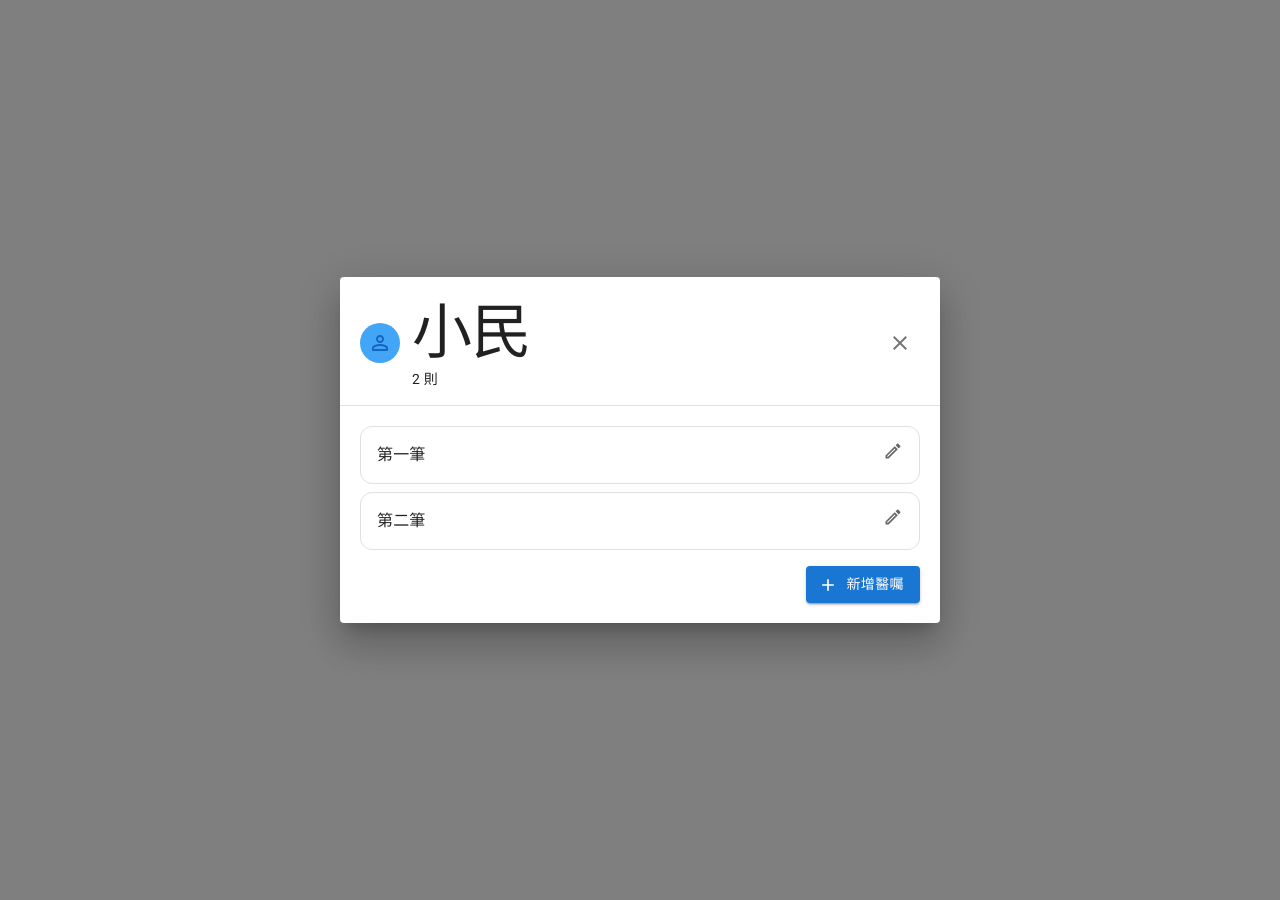
it: OrderDialog 編輯醫囑 › 點既有醫囑可編輯，儲存後打 PUT 且位置不變
Click the button "第一筆" at (401, 455), box [360, 426, 920, 484]
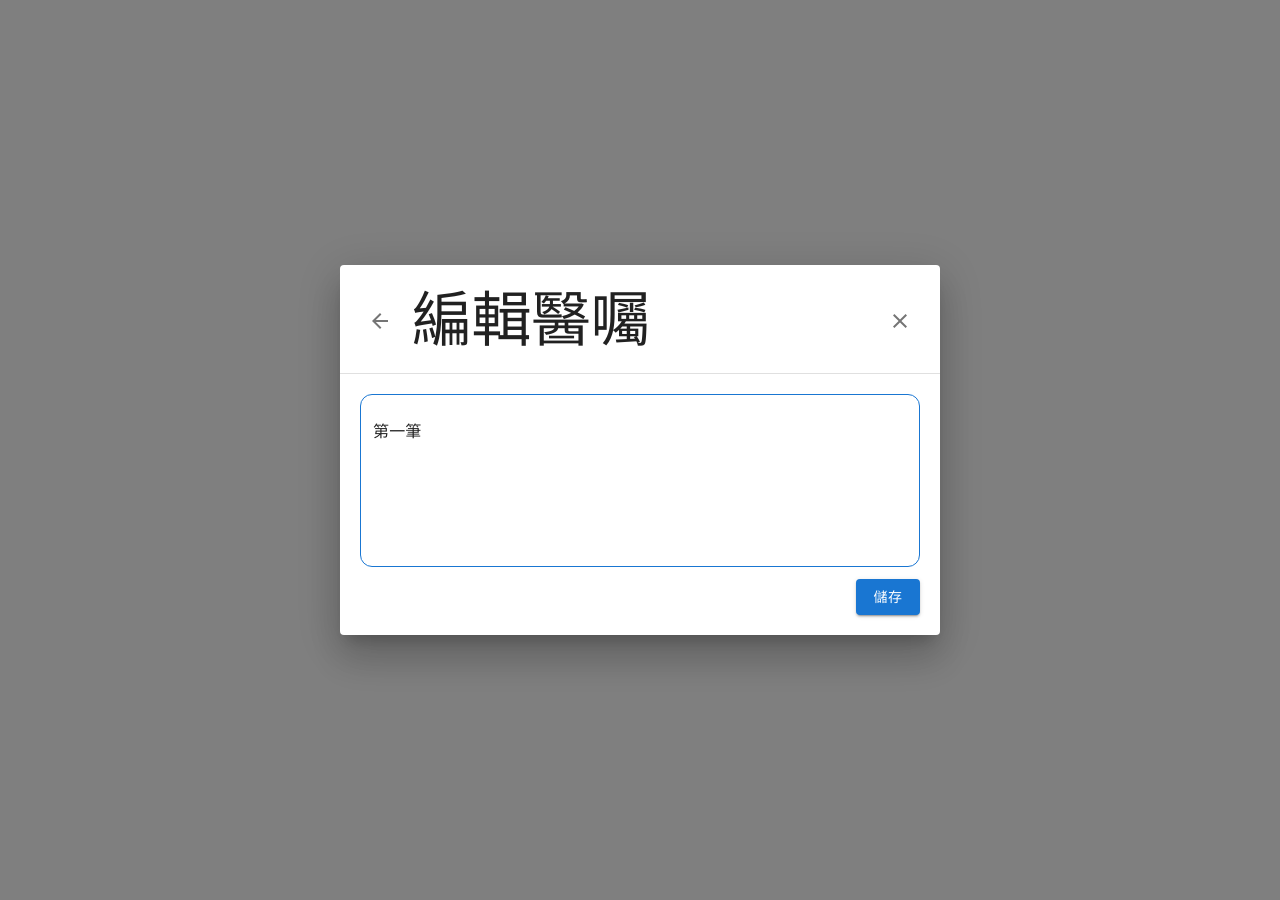
Expected: the text box named "醫囑內容" holds "第一筆"
Replace the text in the text box named "醫囑內容" with "改過的第一筆" at (640, 489), box [373, 420, 907, 558]
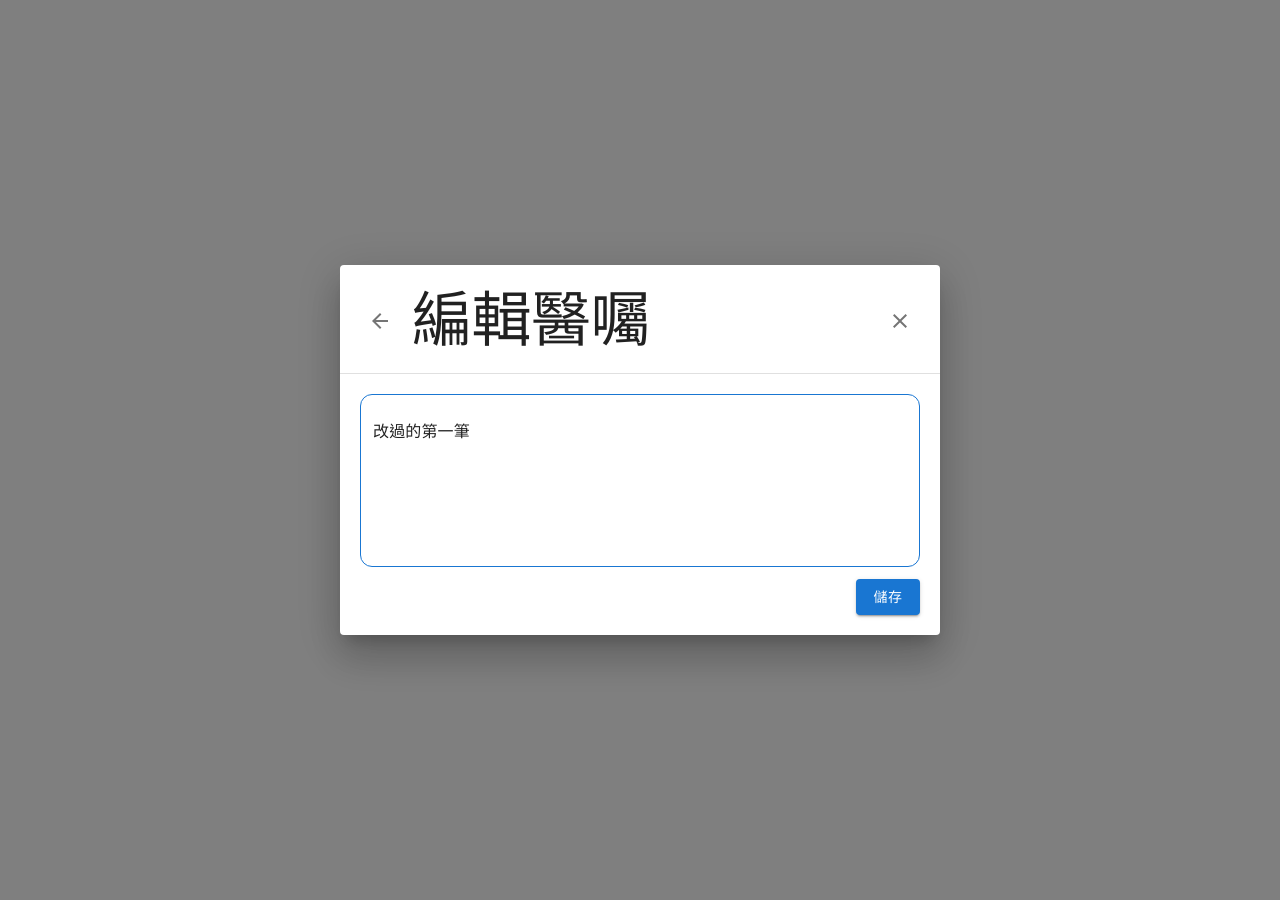
Click the button "儲存" at (888, 597), box [856, 579, 920, 615]
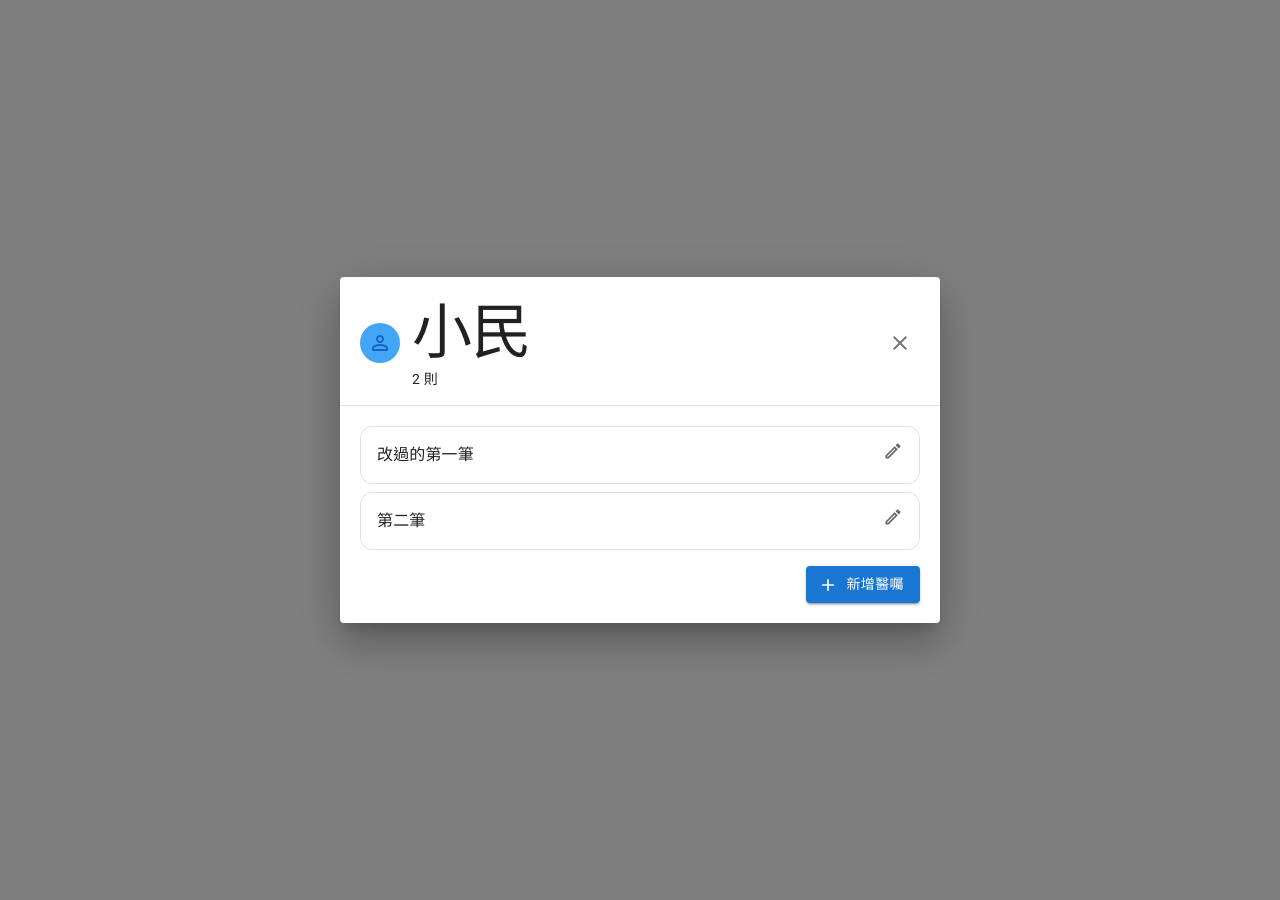
Expected: the buttons read "改過的第一筆", "第二筆", in this order, [360, 426, 920, 484]; [360, 492, 920, 550]
